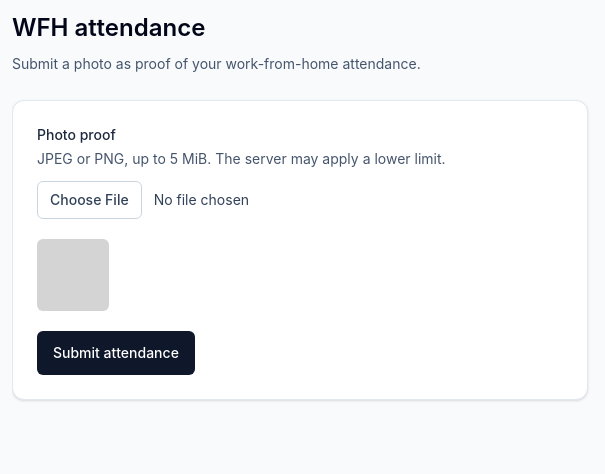
Scenario: EmployeeAttendancePage › shows success with an unavailable timestamp when the server timestamp is malformed
Earlier steps of the test are not shown.
Click the button "Submit attendance" at x=116, y=353, box top-left (37, 331), bottom-right (195, 375)
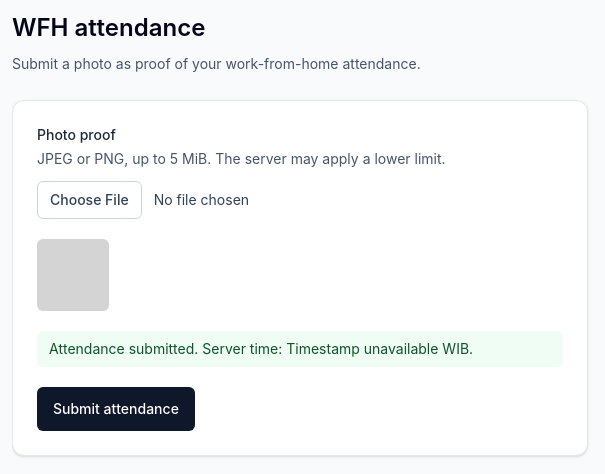
Expected: the message shows "Attendance submitted", top-left (49, 340), bottom-right (286, 357)
Expected: the message shows "Timestamp unavailable", top-left (286, 340), bottom-right (438, 357)
